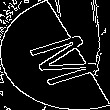M_NE: (11, 24, 99, 86)
